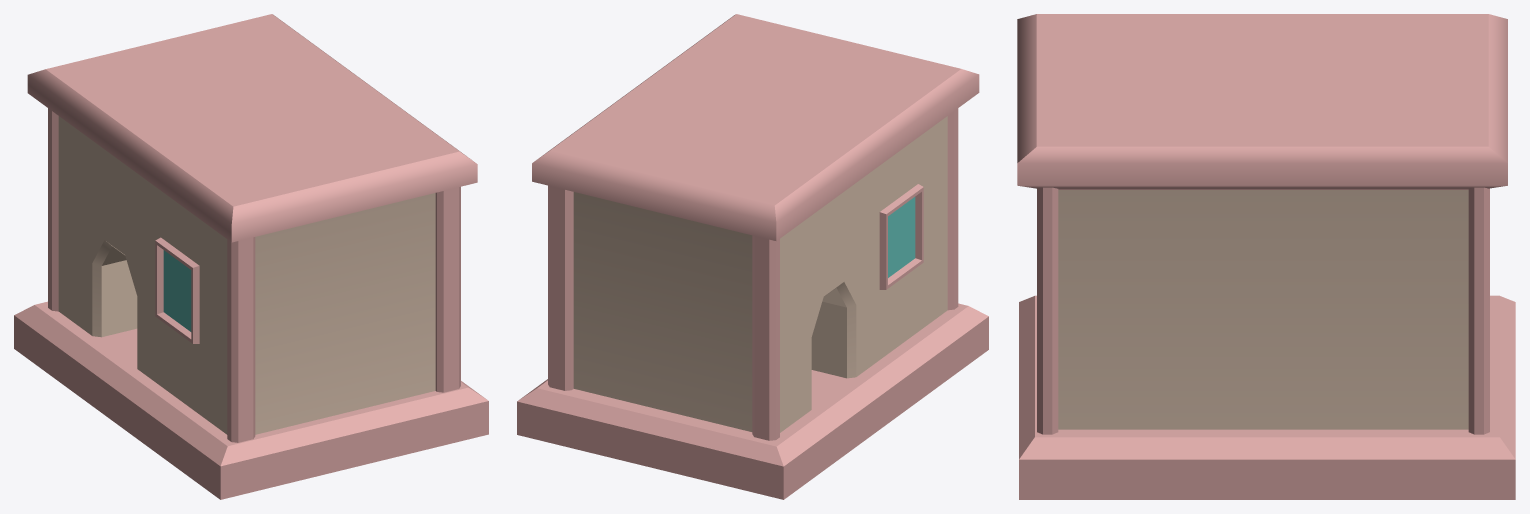
File: house2Textured.fbx
The picture shows the model from 3 angles, left to right: view 1: azimuth 30°, elevation 25°; view 2: azimuth 150°, elevation 25°; view 3: azimuth 270°, elevation 25°; orthographic projection. The views are drawn at different scales.
Visible parts, largest first — view 1: pCube49, pCube50, pCube43, pCube44, pCube42, pTorus3; view 2: pCube49, pCube50, pCube42, pCube45, pCube43, pTorus3; view 3: pCube49, pCube50, pCube44, pCube45.
Part boxes in pixels (x1=…): pCube49: x1=27, y1=14, x2=477, y2=434; pCube50: x1=14, y1=301, x2=488, y2=499; pCube43: x1=227, y1=237, x2=255, y2=442; pCube44: x1=435, y1=186, x2=460, y2=392; pCube42: x1=48, y1=108, x2=58, y2=311; pTorus3: x1=155, y1=237, x2=199, y2=343; pCube49: x1=532, y1=14, x2=979, y2=432; pCube50: x1=517, y1=303, x2=988, y2=499; pCube42: x1=752, y1=235, x2=779, y2=440; pCube45: x1=548, y1=185, x2=573, y2=390; pCube43: x1=947, y1=108, x2=958, y2=310; pTorus3: x1=879, y1=184, x2=923, y2=289; pCube49: x1=1017, y1=14, x2=1507, y2=429; pCube50: x1=1019, y1=295, x2=1515, y2=499; pCube44: x1=1037, y1=187, x2=1058, y2=434; pCube45: x1=1468, y1=187, x2=1489, y2=434.
Bounding box in the file's own units: 13.94 × 14.05 × 18.65.
